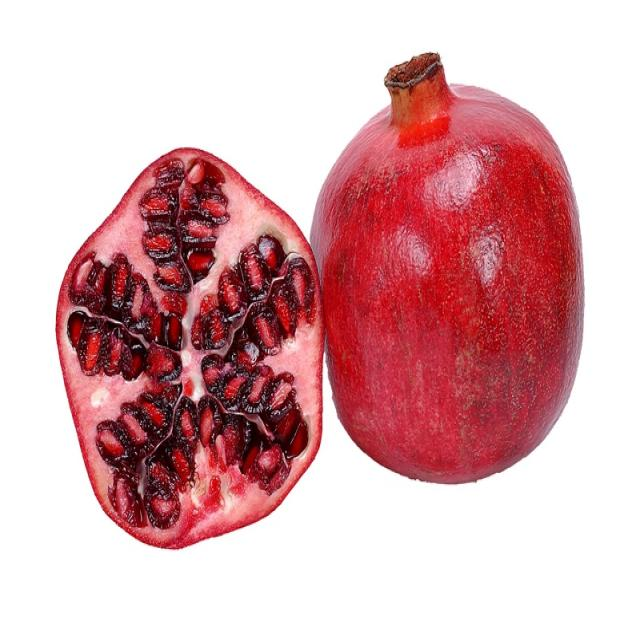apple: (316, 54, 586, 491)
